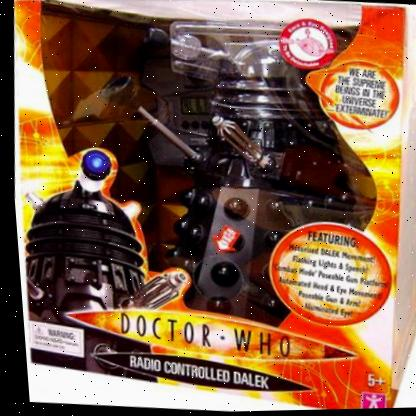dalek: (110, 10, 391, 363), (10, 127, 211, 386)
